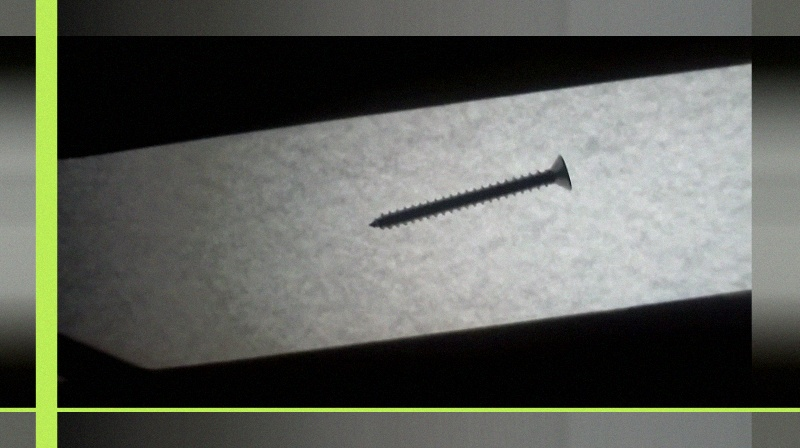S002: (362, 150, 574, 230)
